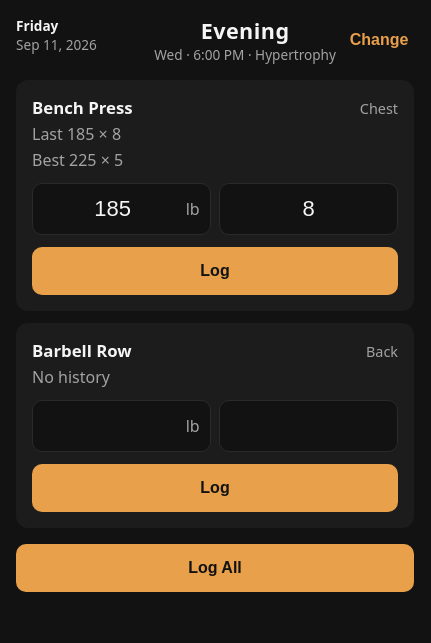
Test: WorkoutPage › shows load errors and reverts Logged when posting fails
What coordinates should you click on to do the following:
click the button "Log" below "Best 225 × 5"
I would click on:
 (215, 271)
Its box is [32,247,398,295].
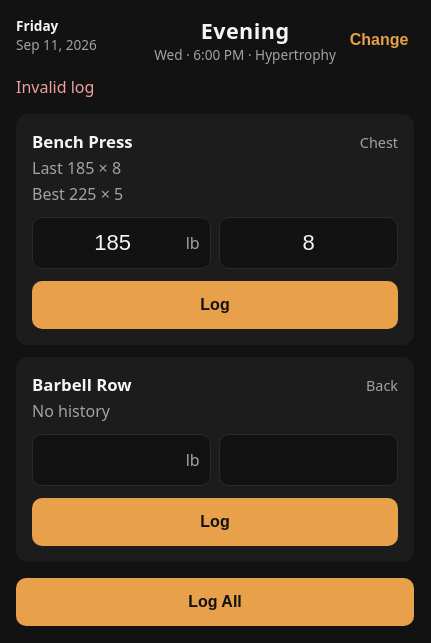
Expected: the button "Log" below "Best 225 × 5" is shown, [32,281,398,329]
Expected: the text with test id "workout-error" reads "Invalid log", [16,76,94,98]
What coordinates should you click on to do the following:
click the button with aria-label "Change set"
I would click on:
 (379, 40)
Its box is [344,16,414,64].
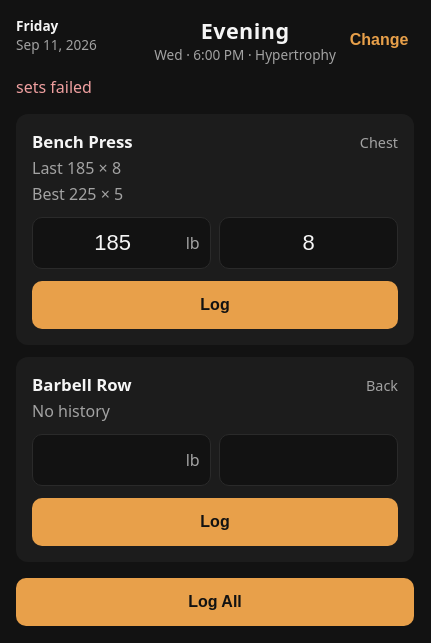
Expected: the text with test id "workout-error" reads "sets failed", [16,76,92,98]
